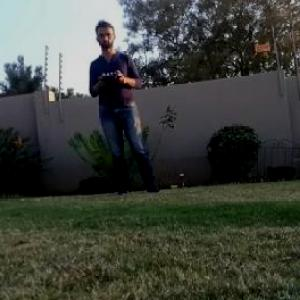follow: (86, 14, 168, 199)
